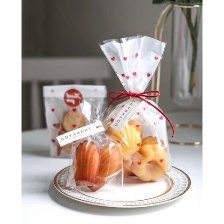snack: (85, 28, 179, 187), (59, 93, 131, 195), (38, 79, 113, 163)
